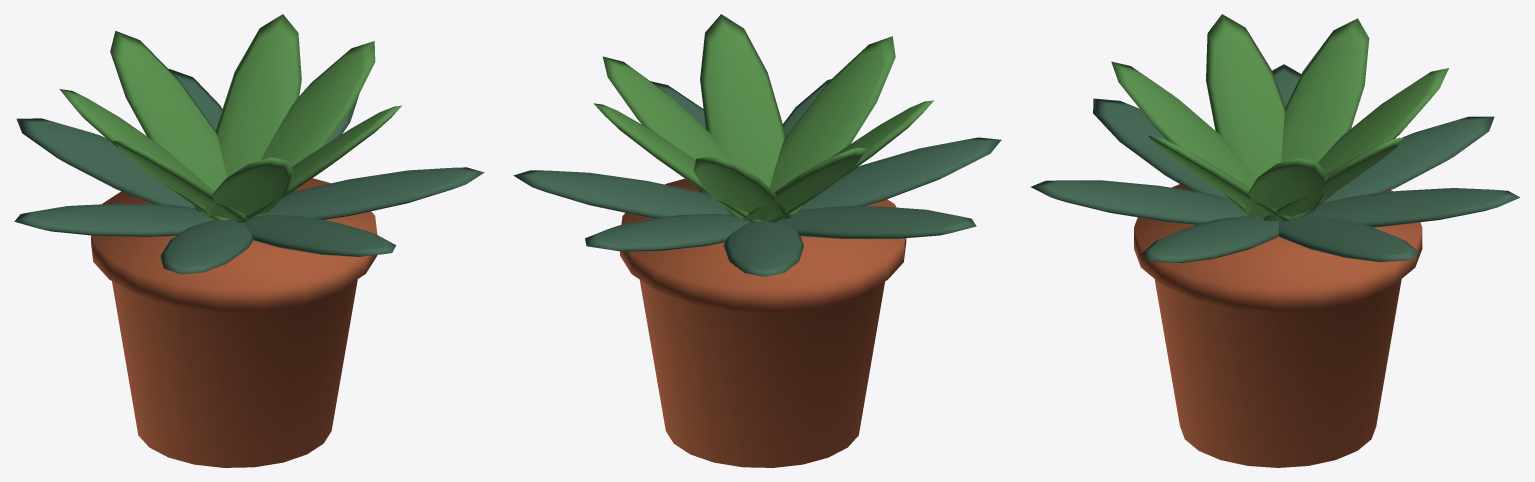
Rendered from fern.glb.
3 renders of one model, left to right at view 1: azimuth 30°, elevation 25°; view 2: azimuth 150°, elevation 25°; view 3: azimuth 270°, elevation 25°, orthographic.
Parts seen in each view (by area): view 1: fern; view 2: fern; view 3: fern.
Boxes of the visible parts, bbox=[...] form: fern: bbox=[14, 14, 484, 467]; fern: bbox=[513, 14, 1001, 467]; fern: bbox=[1031, 14, 1519, 467].
Size of the model in its own units: 0.8078 by 0.6543 by 0.8493.
